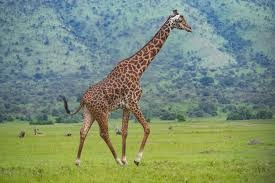giraffe: (59, 8, 193, 169)
